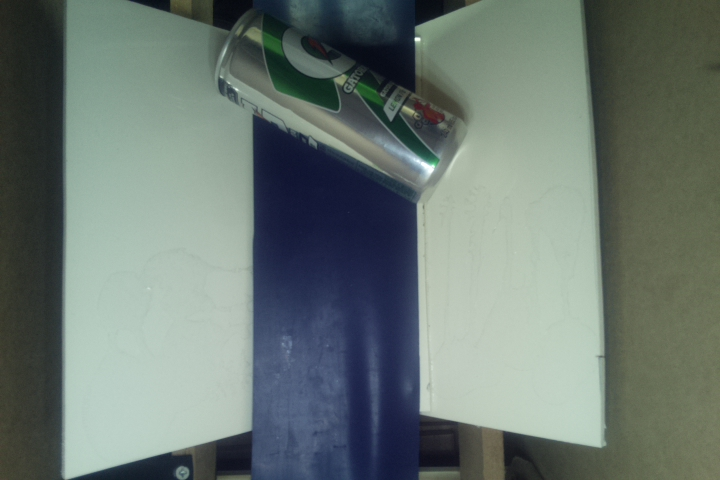can: (212, 5, 470, 206)
